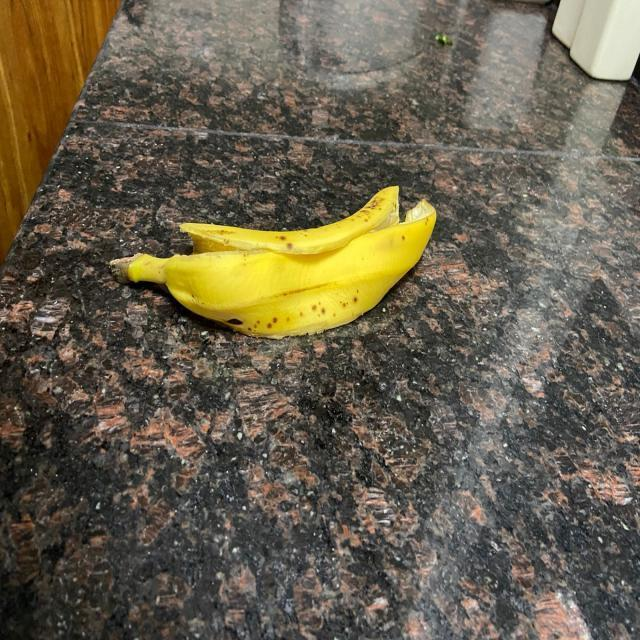banana-peel: (107, 183, 437, 339), (177, 183, 400, 255)
